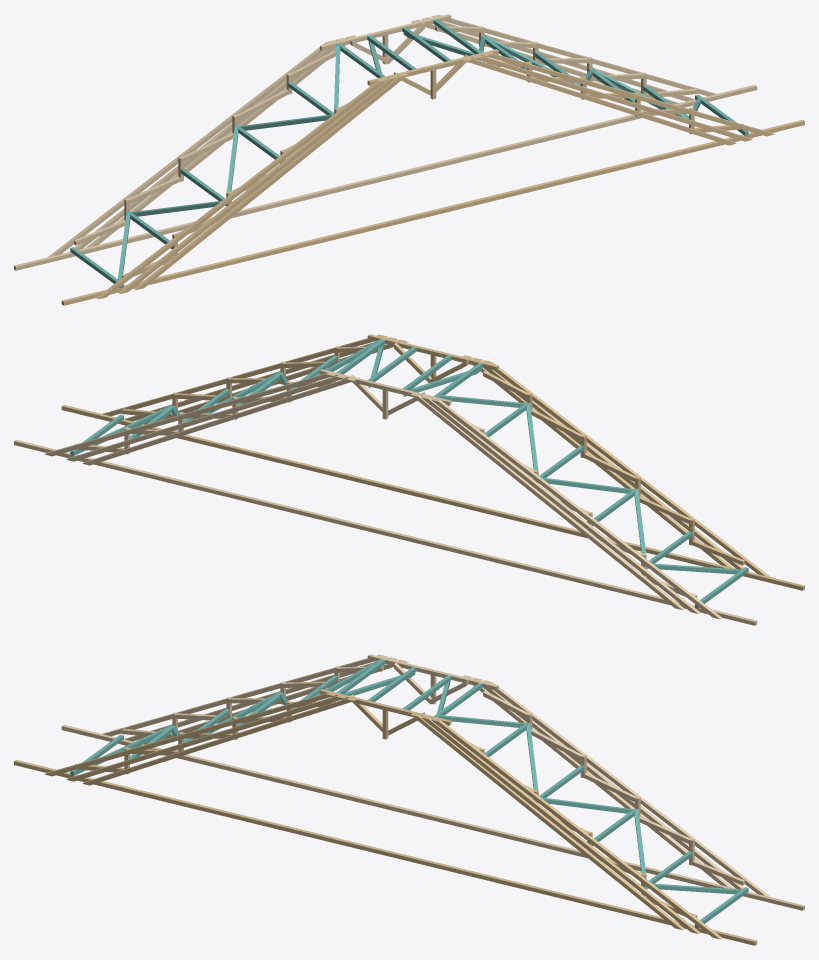
File: bridge-v2-hook-model.glb
3 renders of one model, top to bottom at view 1: azimuth 30°, elevation 25°; view 2: azimuth 150°, elevation 25°; view 3: azimuth 330°, elevation 25°, orthographic.
Visible parts, largest first — view 1: N_A, P_A, N_CL1, N_CL2, N_CL3, P_CL1, N_CR1, N_CR2, N_CR3, P_CR1, P_CL2, P_CL3 (+4 smaller); view 2: P_A, N_A, P_CL1, P_CL2, P_CL3, N_CL1, P_CR1, P_CR2, P_CR3, N_CR1, N_CL2, N_CL3 (+3 smaller); view 3: N_A, P_A, N_CR1, N_CR2, N_CR3, P_CR1, N_CL1, N_CL2, N_CL3, P_CL1, P_CR2, P_CR3 (+3 smaller).
Boxes of the visible parts, x1,y1,x2,y2 form: N_A: [61, 119, 804, 305]; P_A: [14, 85, 757, 270]; N_CL1: [96, 78, 387, 299]; N_CL2: [118, 76, 397, 293]; N_CL3: [134, 73, 407, 290]; P_CL1: [48, 40, 335, 256]; N_CR1: [483, 52, 774, 136]; N_CR2: [473, 55, 752, 141]; N_CR3: [463, 57, 736, 145]; P_CR1: [431, 14, 716, 96]; P_CL2: [75, 38, 345, 249]; P_CL3: [86, 35, 355, 247]; P_A: [14, 439, 757, 625]; N_A: [61, 405, 804, 590]; P_CL1: [431, 398, 722, 619]; P_CL2: [421, 396, 700, 613]; P_CL3: [411, 393, 684, 610]; N_CL1: [483, 360, 770, 576]; P_CR1: [44, 372, 335, 456]; P_CR2: [66, 375, 345, 461]; P_CR3: [82, 377, 355, 465]; N_CR1: [102, 334, 387, 416]; N_CL2: [473, 358, 743, 569]; N_CL3: [463, 355, 732, 567]; N_A: [14, 759, 757, 945]; P_A: [61, 725, 804, 910]; N_CR1: [431, 718, 722, 939]; N_CR2: [421, 716, 700, 933]; N_CR3: [411, 713, 684, 930]; P_CR1: [483, 680, 770, 896]; N_CL1: [44, 692, 335, 776]; N_CL2: [66, 695, 345, 781]; N_CL3: [82, 697, 355, 785]; P_CL1: [102, 654, 387, 736]; P_CR2: [473, 678, 743, 889]; P_CR3: [463, 675, 732, 887].
Bounding box in the file's own units: 0.51 × 0.098 × 0.0645.
